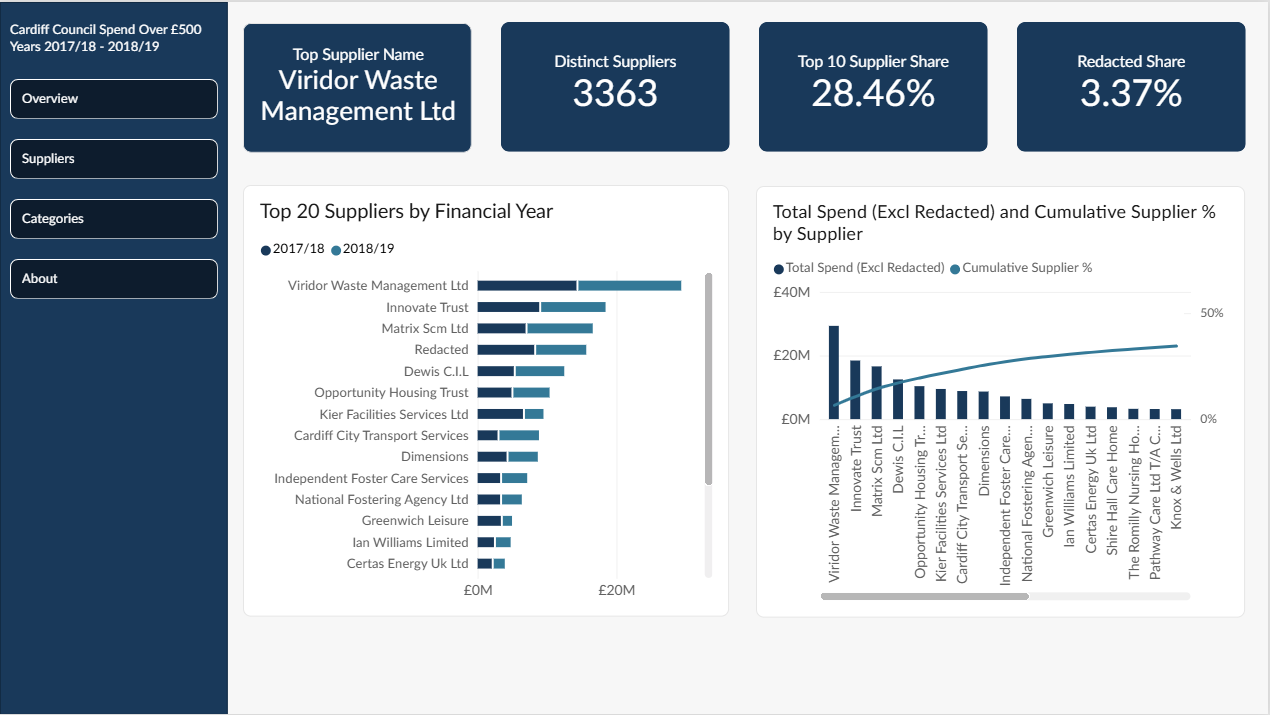

This screenshot's page, from the dashboard's own definition file:
{"tool":"powerbi","page":{"name":"Suppliers","canvas":[1280,720],"ordinal":1},"visuals":[{"type":"shape","title":"Shape_Menu background","box":[0,0,230,720],"z":0,"group":"g1"},{"type":"cardVisual","fields":{"Data":["_Measures.Redacted Share"]},"box":[1027,20,231.4,131.9],"z":0},{"type":"cardVisual","fields":{"Data":["_Measures.Distinct Suppliers"]},"box":[505.7,20,231.4,131.9],"z":1000},{"type":"actionButton","title":"Btn_Overview","box":[10.6,77.9,210,40.4],"z":1000,"group":"g1"},{"type":"cardVisual","fields":{"Data":["_Measures.Top 10 Supplier Share"]},"box":[766.3,20,231.4,131.9],"z":2000},{"type":"actionButton","title":"Btn_Suppliers","box":[10.6,138.6,210,40.4],"z":2000,"group":"g1"},{"type":"barChart","title":"Top 20 Suppliers by Financial Year","fields":{"Category":["DimSupplier.Supplier"],"Series":["DimDate.Financial Year"],"Y":["_Measures.Total Spend"]},"box":[245,185.3,491.4,436.2],"z":3000},{"type":"actionButton","title":"Btn_Categories","box":[10.6,199.3,210,40.4],"z":3000,"group":"g1"},{"type":"lineClusteredColumnComboChart","fields":{"Category":["DimSupplier.Supplier"],"Y":["_Measures.Total Spend (Excl Redacted)"],"Y2":["_Measures.Cumulative Supplier %"]},"box":[763.8,185.7,493.8,435.8],"z":4000},{"type":"actionButton","title":"Btn_About","box":[10.6,260,210,40.4],"z":4000,"group":"g1"},{"type":"textbox","title":"Report_Title","box":[10.1,20,210.1,38.4],"z":5000,"group":"g1"},{"type":"cardVisual","fields":{"Data":["_Measures.Top Supplier Name"]},"box":[245,20.8,231.4,131.9],"z":5000},{"type":"group","id":"g1","title":"Navigation","box":[0,0,230,720],"z":6000}]}

Visuals, with their boxes in screenshot pixels (x1, y1, x2, y2), scaled from the page's 1280x720 canvas onto the 1270x715 screenshot:
"Shape_Menu background" shape: {"left": 0, "top": 0, "right": 228, "bottom": 714}
cardVisual - _Measures.Redacted Share: {"left": 1019, "top": 20, "right": 1249, "bottom": 151}
cardVisual - _Measures.Distinct Suppliers: {"left": 502, "top": 20, "right": 731, "bottom": 151}
"Btn_Overview" actionButton: {"left": 11, "top": 77, "right": 219, "bottom": 117}
cardVisual - _Measures.Top 10 Supplier Share: {"left": 760, "top": 20, "right": 990, "bottom": 151}
"Btn_Suppliers" actionButton: {"left": 11, "top": 138, "right": 219, "bottom": 178}
"Top 20 Suppliers by Financial Year" barChart: {"left": 243, "top": 184, "right": 731, "bottom": 617}
"Btn_Categories" actionButton: {"left": 11, "top": 198, "right": 219, "bottom": 238}
lineClusteredColumnComboChart - DimSupplier.Supplier x _Measures.Total Spend (Excl Redacted): {"left": 758, "top": 184, "right": 1248, "bottom": 617}
"Btn_About" actionButton: {"left": 11, "top": 258, "right": 219, "bottom": 298}
"Report_Title" textbox: {"left": 10, "top": 20, "right": 218, "bottom": 58}
cardVisual - _Measures.Top Supplier Name: {"left": 243, "top": 21, "right": 473, "bottom": 152}
"Navigation" group: {"left": 0, "top": 0, "right": 228, "bottom": 714}
